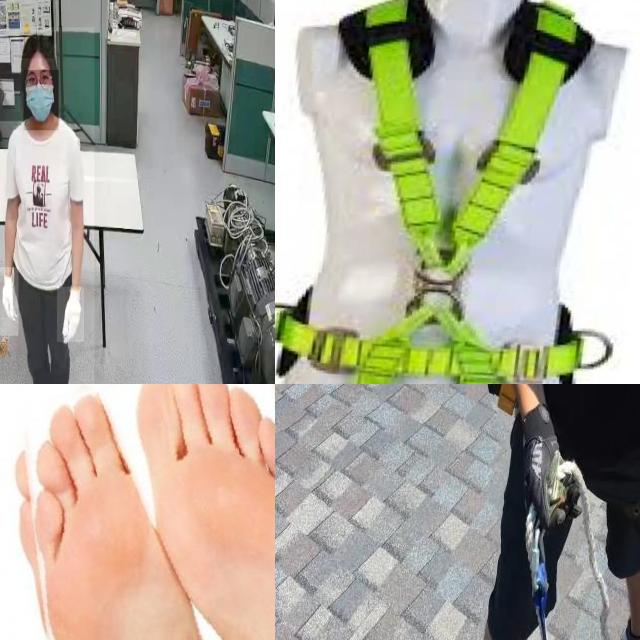Barefoots: (0, 384, 275, 640), (112, 384, 275, 640)
Harness: (275, 0, 612, 384)
face_mask: (23, 70, 58, 130)
glasses: (24, 69, 51, 92)
hand_glove: (57, 287, 85, 343), (0, 267, 19, 336)
head_nohelmet: (20, 32, 54, 59)
person: (0, 27, 95, 384)
